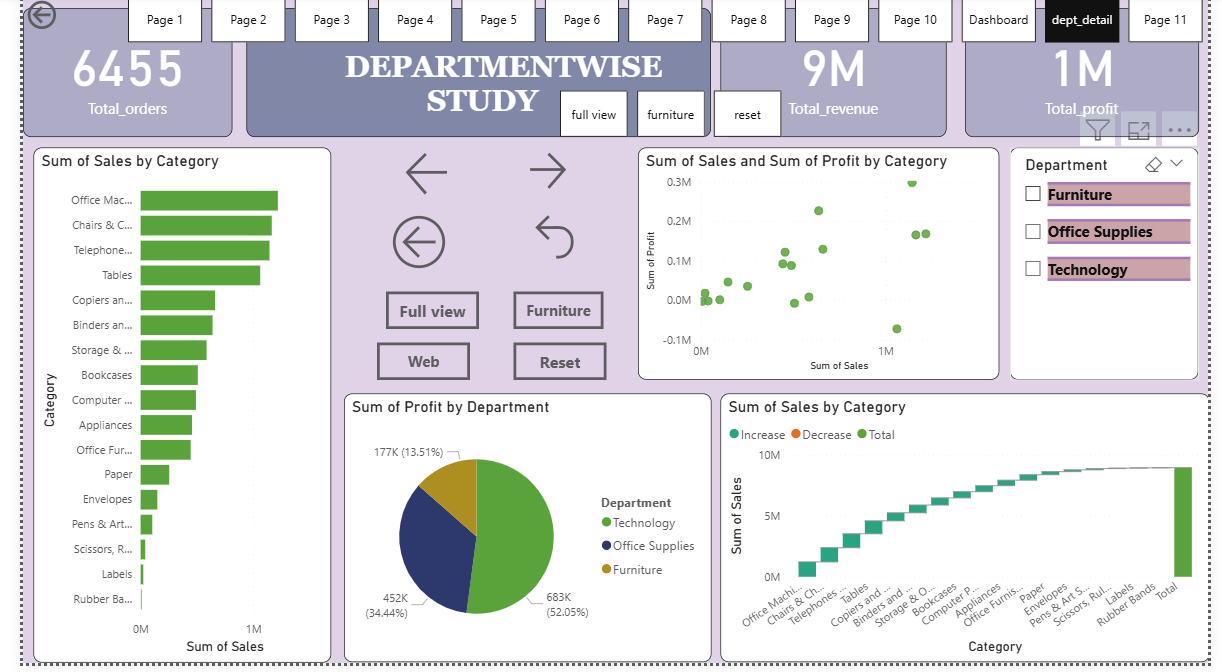

Layout of this report page (visuals, bound fields, positions):
{"tool":"powerbi","page":{"name":"dept_detail","canvas":[1280,720],"ordinal":11},"visuals":[{"type":"slicer","fields":{"Values":["Superstore.Department"]},"box":[1065.6,163.9,203.3,250.8],"z":0},{"type":"card","fields":{"Values":["Superstore.Total_orders"]},"box":[0,13.1,226.2,139.3],"z":1000},{"type":"card","fields":{"Values":["Superstore.Total_revenue"]},"box":[752.5,13.1,244.3,139.3],"z":2000},{"type":"card","fields":{"Values":["Superstore.Total_profit"]},"box":[1016.4,13.1,252.5,139.3],"z":3000},{"type":"pieChart","fields":{"Category":["Superstore.Department"],"Y":["Sum(Superstore.Profit)"]},"box":[345.9,429.5,396.7,290.2],"z":4000},{"type":"waterfallChart","fields":{"Category":["Superstore.Category"],"Y":["Sum(Superstore.Sales)"]},"box":[752.5,429.5,527.9,290.2],"z":5000},{"type":"clusteredBarChart","fields":{"Y":["Sum(Superstore.Sales)"],"Category":["Superstore.Category"]},"box":[11.5,163.9,321.3,555.7],"z":6000},{"type":"scatterChart","fields":{"X":["Sum(Superstore.Sales)"],"Y":["Sum(Superstore.Profit)"],"Category":["Superstore.Category"]},"box":[663.9,163.9,390.2,250.8],"z":7000},{"type":"textbox","box":[241,13.1,501.6,139.3],"z":8000},{"type":"actionButton","box":[0,0,51.9,40.7],"z":9000},{"type":"actionButton","box":[408,163.5,121.4,56.7],"z":10000},{"type":"actionButton","box":[540.8,163.5,98.8,50.2],"z":11000},{"type":"actionButton","box":[391.9,229.9,121.4,71.2],"z":12000},{"type":"actionButton","box":[544.1,229.9,102,59.9],"z":13000},{"type":"pageNavigator","box":[113.3,0,1167.5,50.2],"z":14000},{"type":"actionButton","box":[391.9,319,100.4,40.5],"z":15000},{"type":"actionButton","box":[382.1,374,100.4,40.5],"z":16000},{"type":"actionButton","box":[529.5,374,100.4,40.5],"z":17000},{"type":"actionButton","box":[529.5,319,97.2,40.5],"z":18000},{"type":"bookmarkNavigator","box":[579.7,102,241.3,50.2],"z":19000}]}

Visuals, with their boxes in screenshot pixels (x1, y1, x2, y2):
slicer - Superstore.Department: <region>1002, 148, 1189, 378</region>
card - Superstore.Total_orders: <region>22, 9, 230, 137</region>
card - Superstore.Total_revenue: <region>714, 9, 939, 137</region>
card - Superstore.Total_profit: <region>957, 9, 1189, 137</region>
pieChart - Superstore.Department x Sum(Superstore.Profit): <region>340, 392, 705, 659</region>
waterfallChart - Superstore.Category x Sum(Superstore.Sales): <region>714, 392, 1200, 659</region>
clusteredBarChart - Sum(Superstore.Sales) x Superstore.Category: <region>33, 148, 328, 659</region>
scatterChart - Sum(Superstore.Sales) x Sum(Superstore.Profit): <region>633, 148, 992, 378</region>
textbox: <region>244, 9, 705, 137</region>
actionButton: <region>22, 0, 70, 34</region>
actionButton: <region>398, 147, 509, 199</region>
actionButton: <region>520, 147, 611, 193</region>
actionButton: <region>383, 208, 494, 274</region>
actionButton: <region>523, 208, 616, 263</region>
pageNavigator: <region>126, 0, 1200, 43</region>
actionButton: <region>383, 290, 475, 327</region>
actionButton: <region>374, 341, 466, 378</region>
actionButton: <region>509, 341, 602, 378</region>
actionButton: <region>509, 290, 599, 327</region>
bookmarkNavigator: <region>555, 91, 777, 137</region>
